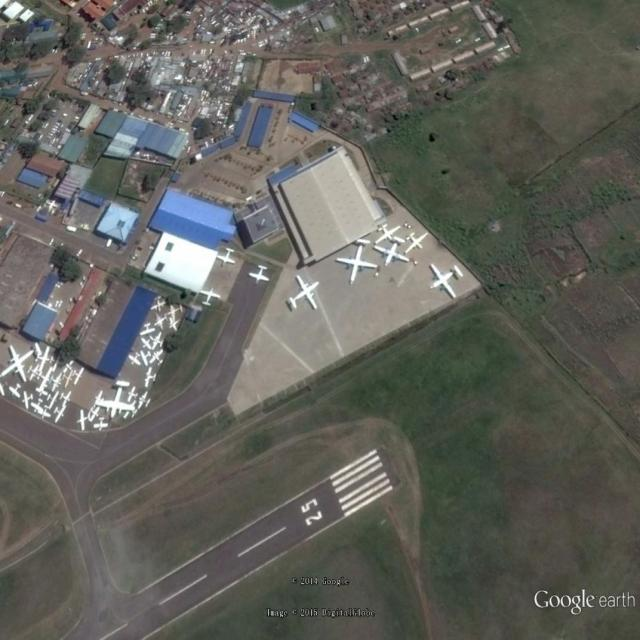aircraft: (334, 238, 380, 286), (95, 378, 140, 422), (3, 341, 45, 388), (429, 261, 467, 303), (285, 274, 322, 313), (374, 235, 412, 269), (404, 229, 431, 256), (376, 224, 406, 245), (35, 343, 55, 374), (38, 365, 57, 397), (216, 247, 239, 271), (249, 264, 272, 287), (200, 288, 223, 310), (134, 390, 155, 412), (141, 366, 160, 390), (163, 304, 188, 322), (148, 345, 166, 369), (147, 331, 167, 351), (20, 389, 37, 412), (76, 409, 92, 433), (52, 406, 70, 427), (70, 366, 86, 389), (137, 336, 155, 355), (125, 352, 143, 371), (92, 416, 110, 435), (57, 389, 73, 410), (150, 296, 167, 315), (27, 365, 44, 384), (137, 350, 152, 371), (151, 315, 167, 334), (48, 374, 64, 393), (8, 381, 24, 400), (92, 389, 107, 409), (61, 370, 76, 390), (140, 322, 158, 338), (35, 385, 51, 403), (88, 405, 103, 424), (36, 405, 51, 424), (30, 398, 45, 417), (47, 392, 62, 411), (62, 358, 78, 375), (167, 317, 182, 334), (126, 386, 139, 403)
